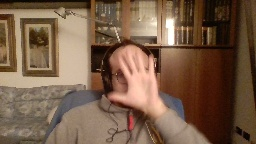Mano_aperta: (104, 45, 160, 112)
